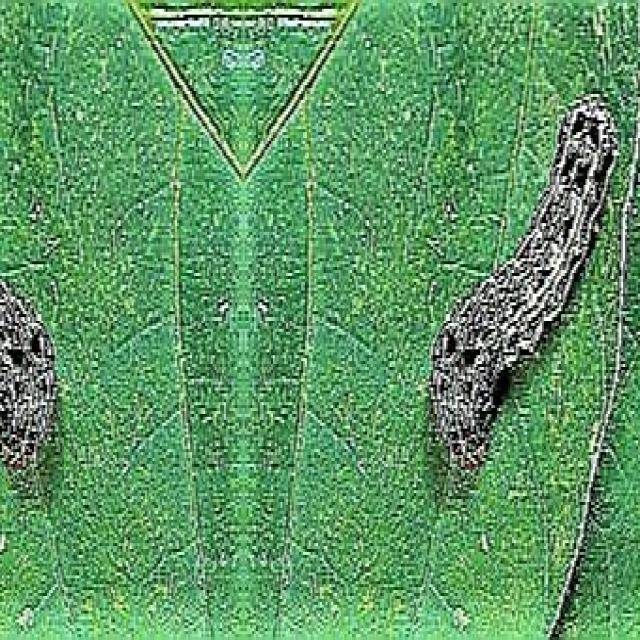Armyworm: (433, 100, 620, 487), (1, 204, 80, 511)
